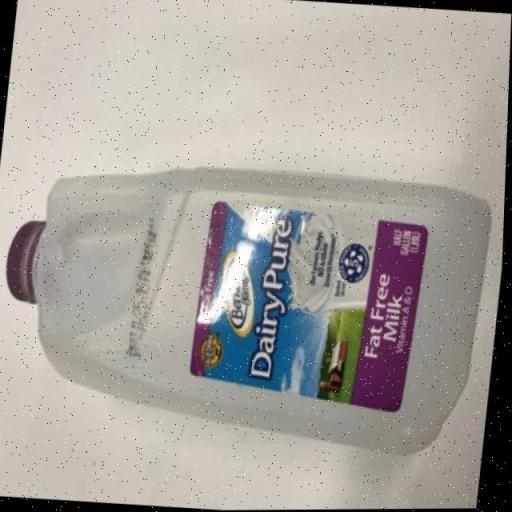plastic: (0, 142, 504, 470)
